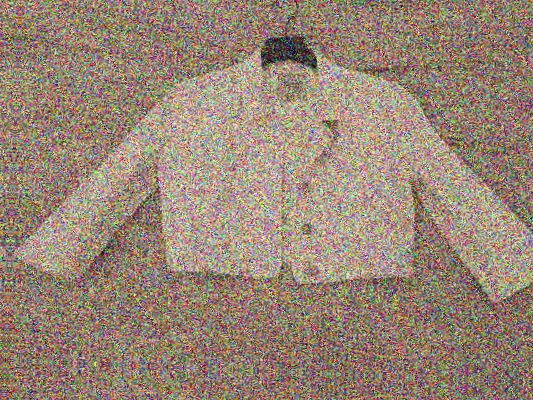Blazer: (26, 31, 533, 338)
